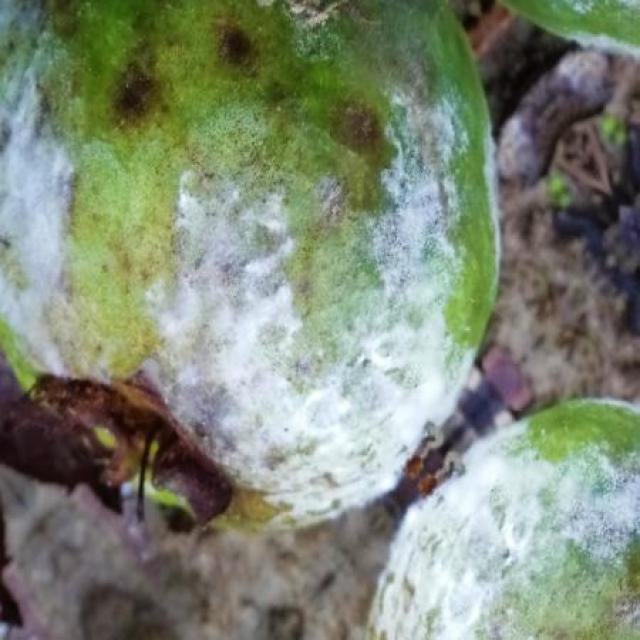Phytopthora: (371, 400, 640, 640)
